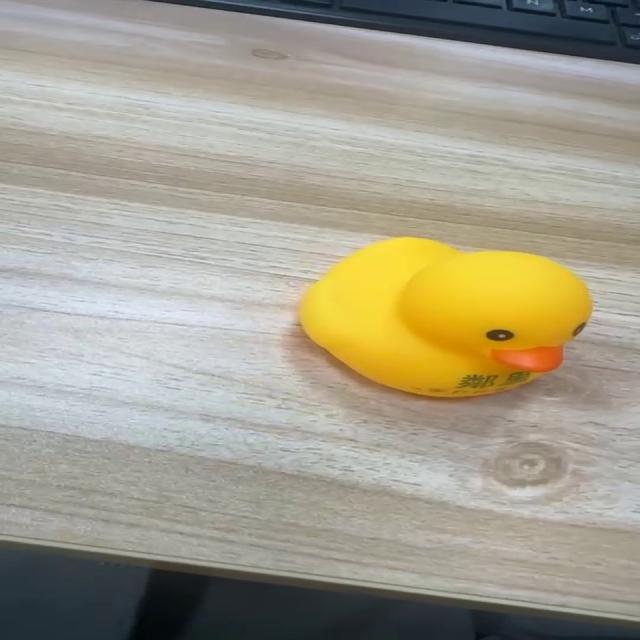yellow_duck: (295, 234, 594, 398)
